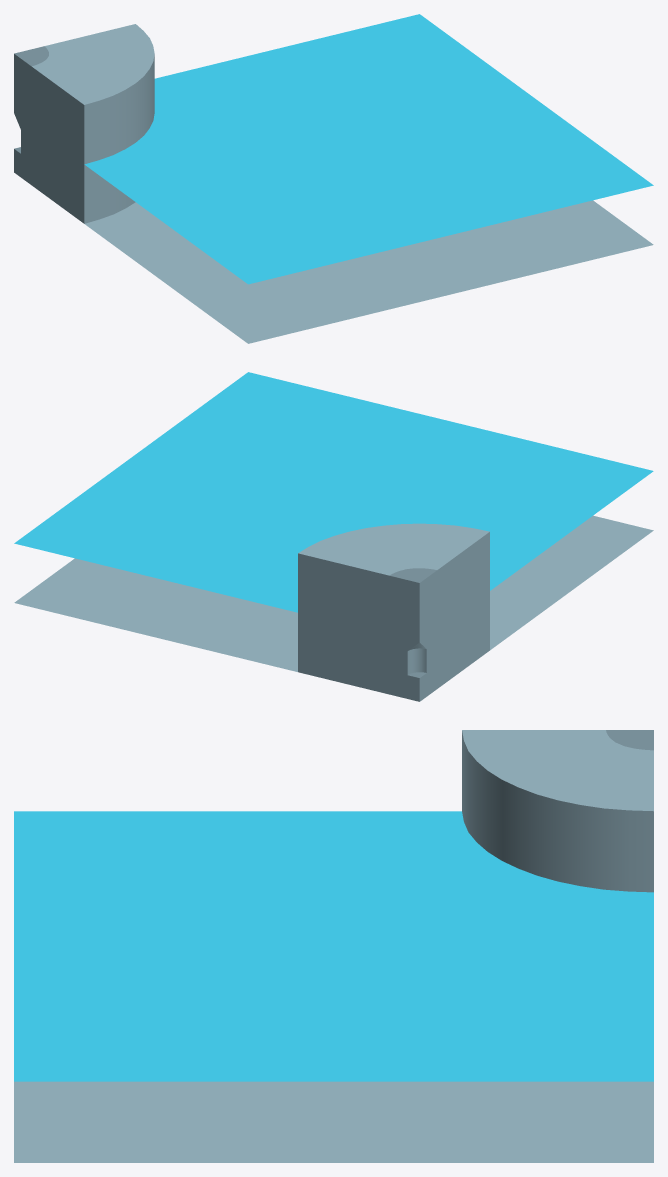
The model's file is fountainCornerInner.obj.
The picture shows the model from 3 angles, top to bottom: view 1: azimuth 30°, elevation 25°; view 2: azimuth 150°, elevation 25°; view 3: azimuth 270°, elevation 25°; orthographic projection. The views are drawn at different scales.
Visible parts, largest first — view 1: fountainCornerInner; view 2: fountainCornerInner; view 3: fountainCornerInner.
Part boxes in pixels (x1,y1,x2,y2): fountainCornerInner: (14, 14, 653, 343); fountainCornerInner: (14, 372, 653, 701); fountainCornerInner: (14, 730, 653, 1162).
Size of the model in its own units: 1 by 0.28 by 1.
